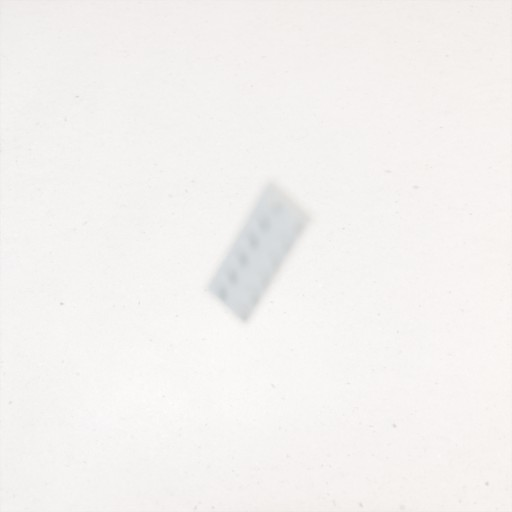lego: (203, 177, 317, 328)
